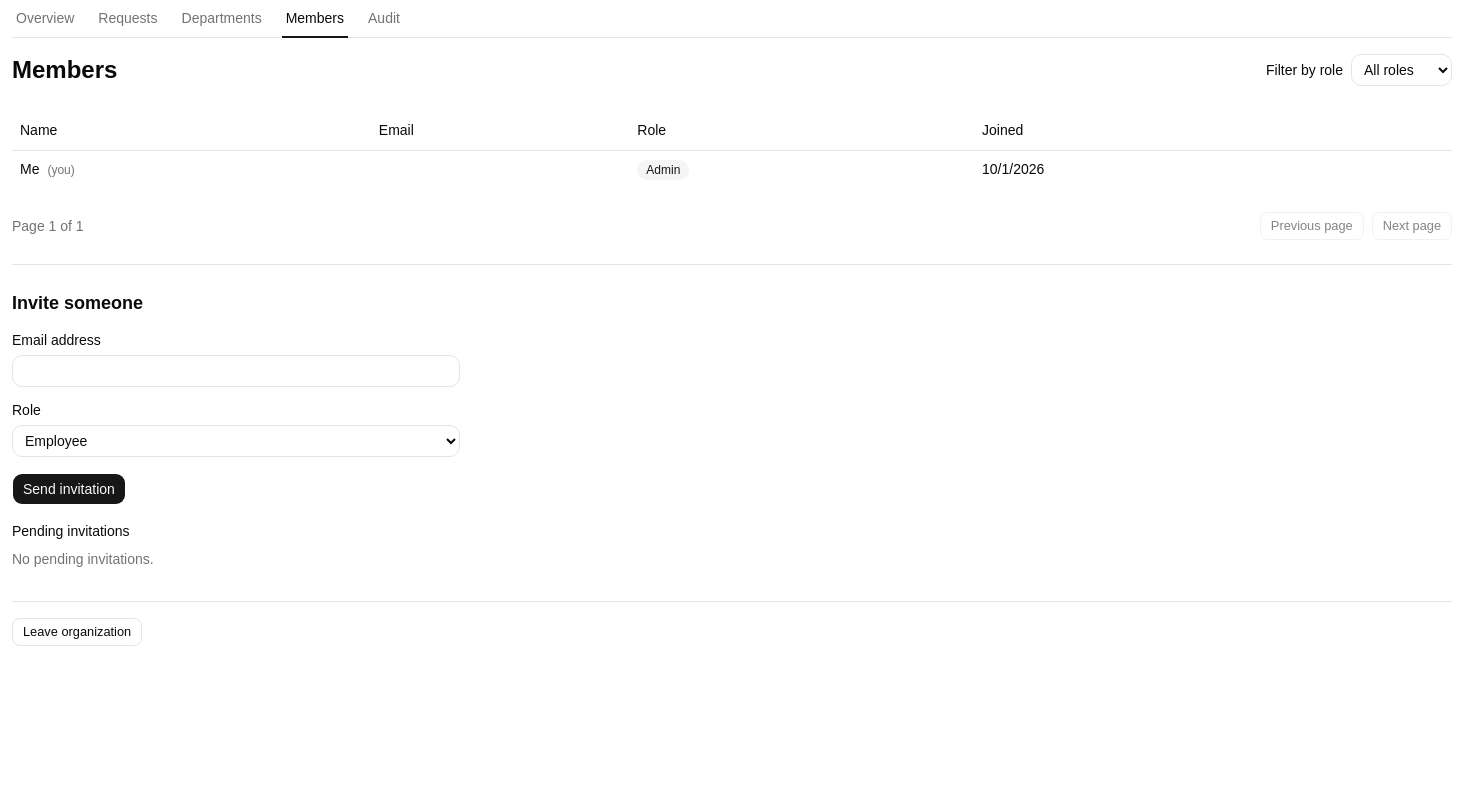
Test case: Invitations section › explains when the person is already a member
In the field labelled "Email address": (236, 370) [12, 354, 460, 386], type "member@example.com"
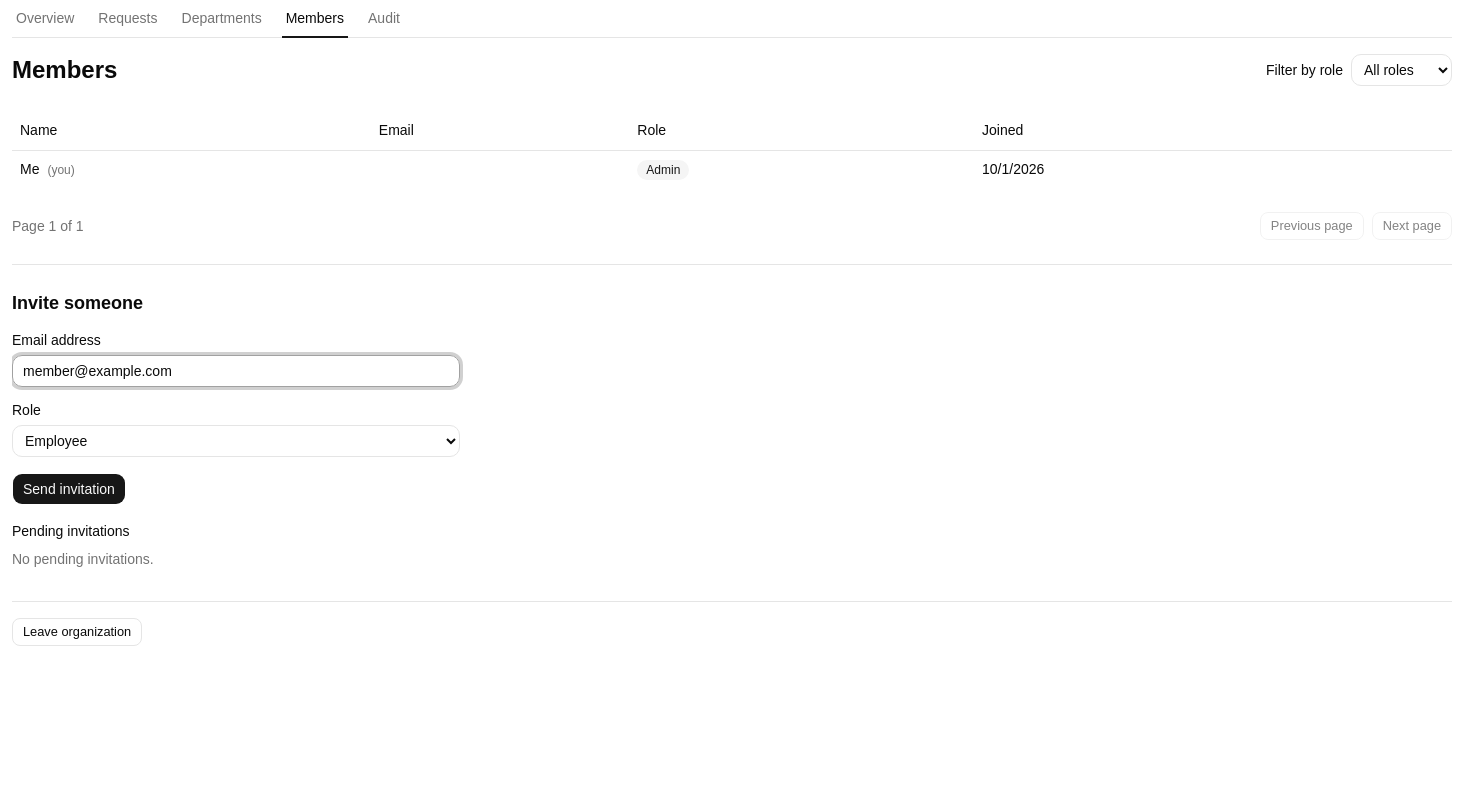
Click the button "Send invitation": (69, 488) [12, 472, 126, 504]
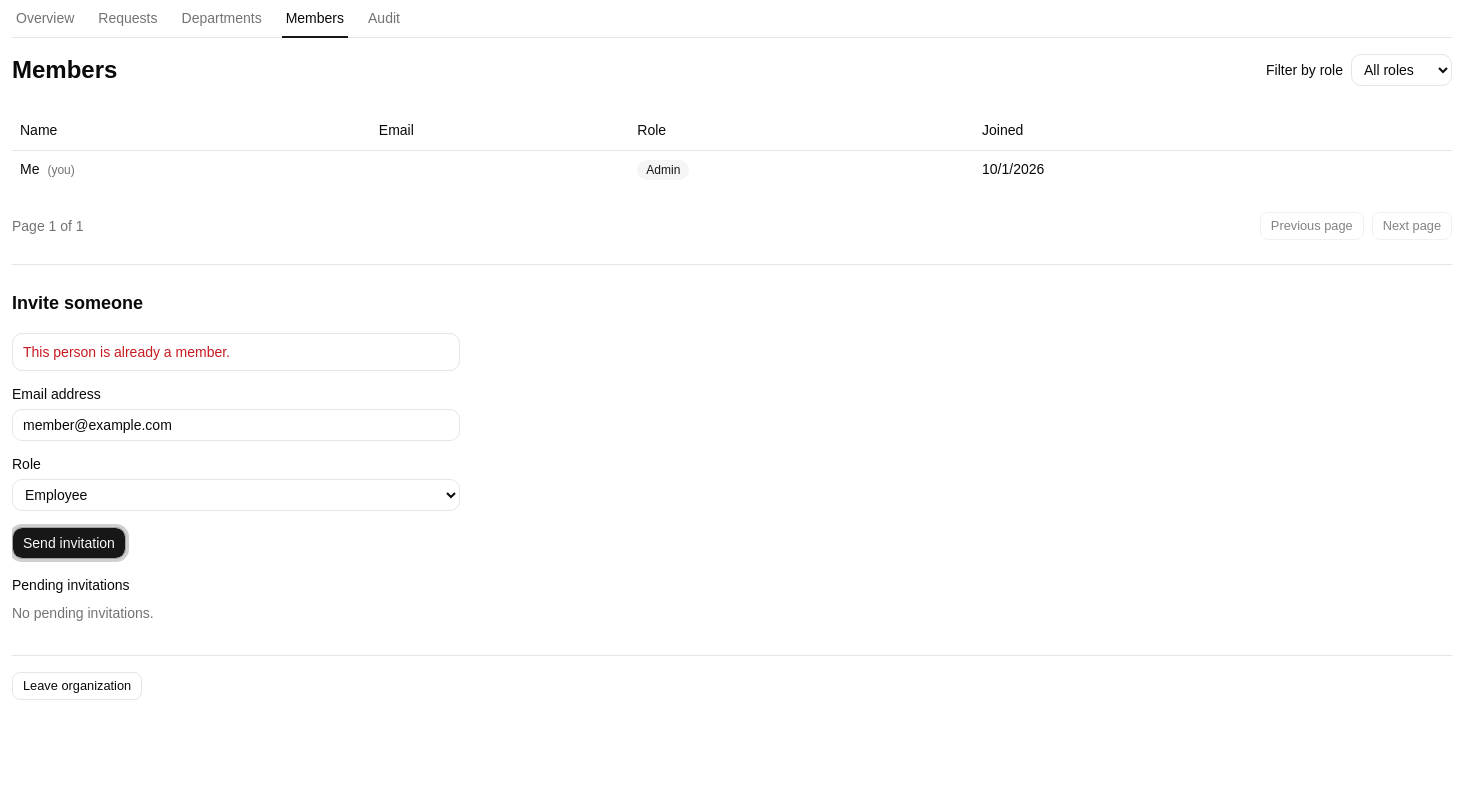
Check: the text "This person is already a member." is shown, box [23, 344, 230, 360]
